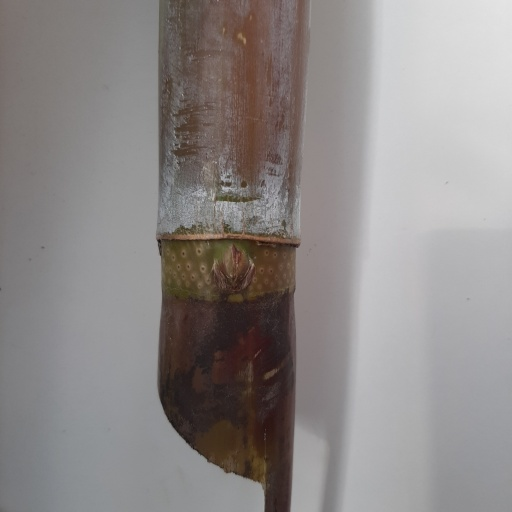Bud: (213, 243, 254, 291)
